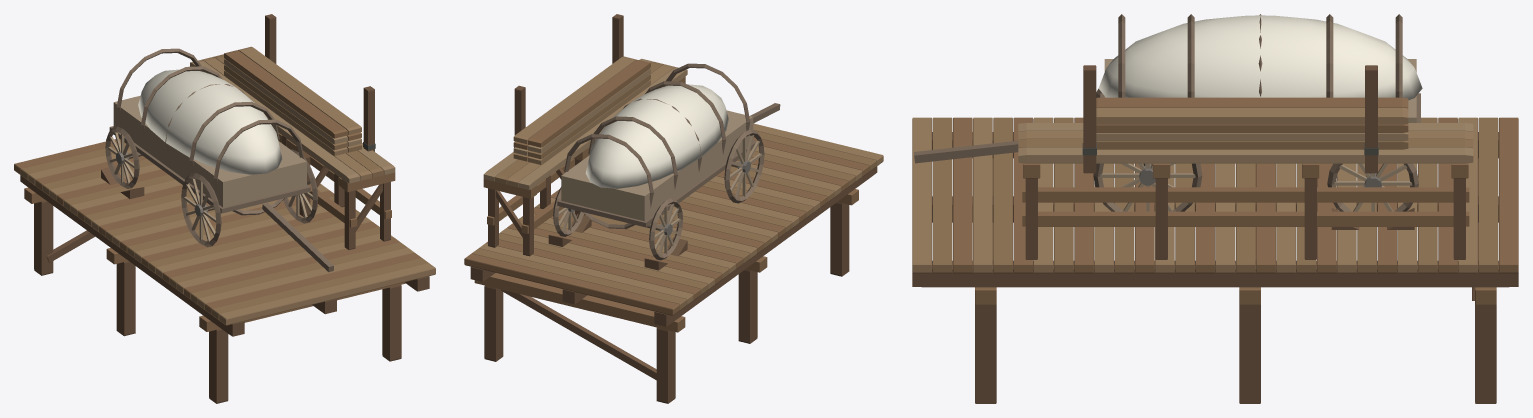
The model's file is UnloadingRack.glb.
3 views of the same model, side by side, from view 1: azimuth 30°, elevation 25°; view 2: azimuth 150°, elevation 25°; view 3: azimuth 270°, elevation 25° (orthographic). The views are drawn at different scales.
Parts seen in each view (by area): view 1: WharfDeck, ChockedWagon-col, WharfPiles-col, Trestles-col, Stock-col, Chocks-col; view 2: WharfDeck, ChockedWagon-col, WharfPiles-col, Trestles-col, Stock-col, Chocks-col; view 3: WharfDeck, Trestles-col, ChockedWagon-col, WharfPiles-col, Stock-col.
Part boxes in pixels (box(x1,y1,x2,y2)): WharfDeck: box(14, 139, 435, 325); ChockedWagon-col: box(105, 48, 333, 272); WharfPiles-col: box(20, 175, 429, 403); Trestles-col: box(190, 14, 395, 249); Stock-col: box(224, 46, 361, 155); Chocks-col: box(101, 166, 144, 199); WharfDeck: box(464, 123, 883, 315); ChockedWagon-col: box(553, 63, 780, 260); WharfPiles-col: box(470, 166, 877, 403); Trestles-col: box(483, 14, 687, 256); Stock-col: box(513, 56, 650, 164); Chocks-col: box(548, 214, 687, 270); WharfDeck: box(912, 117, 1518, 273); Trestles-col: box(1018, 65, 1473, 259); ChockedWagon-col: box(914, 14, 1422, 211); WharfPiles-col: box(912, 132, 1518, 403); Stock-col: box(1096, 97, 1408, 149).
Bounding box in the file's own units: 4 × 4.35 × 7.
